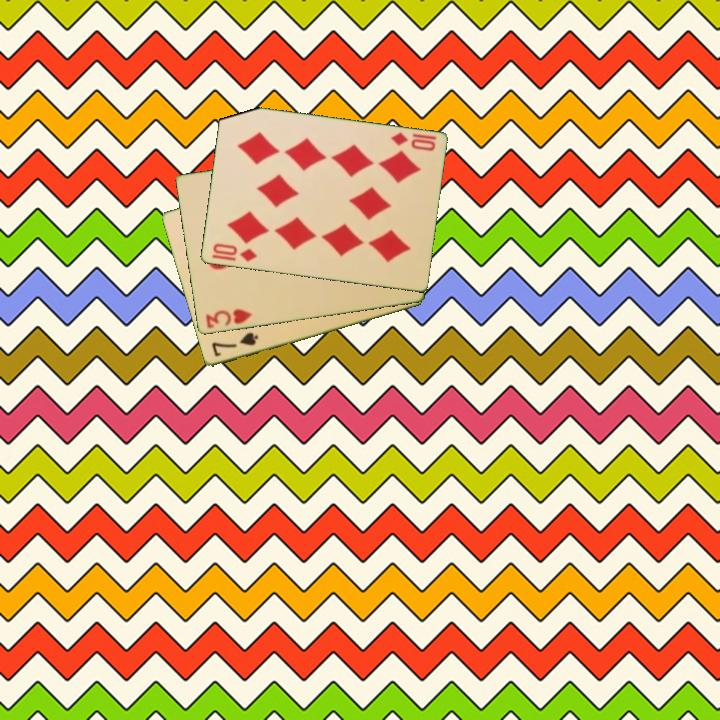10d: (387, 129, 439, 154), (209, 240, 259, 265)
3h: (202, 306, 255, 331)
7s: (208, 329, 261, 360)
